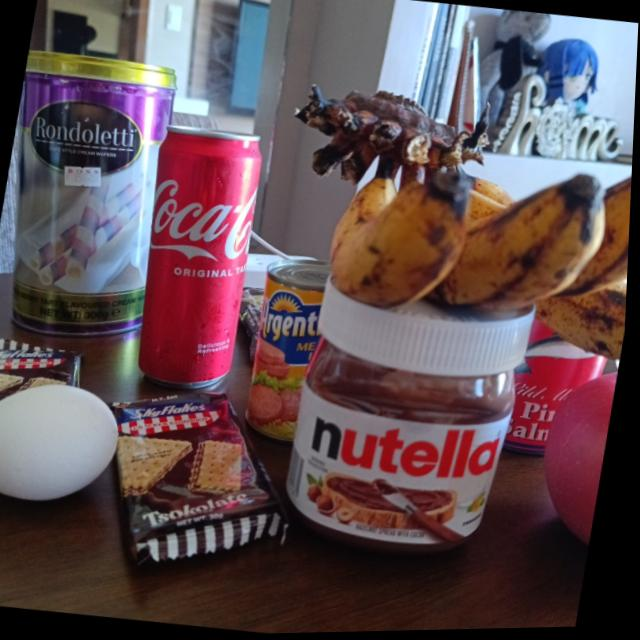apple: (536, 367, 621, 539)
coke: (122, 124, 267, 394)
egg: (0, 372, 128, 506)
